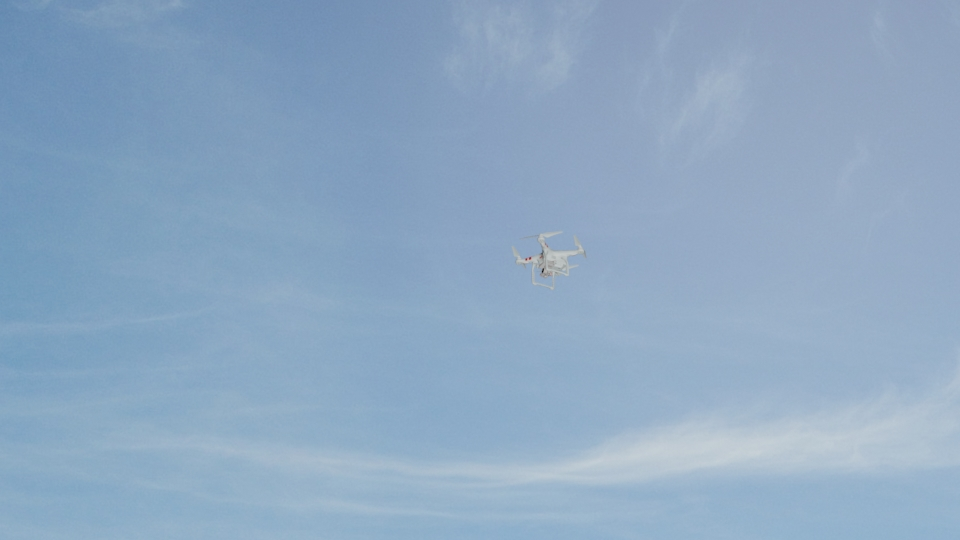drone: (513, 230, 583, 287)
